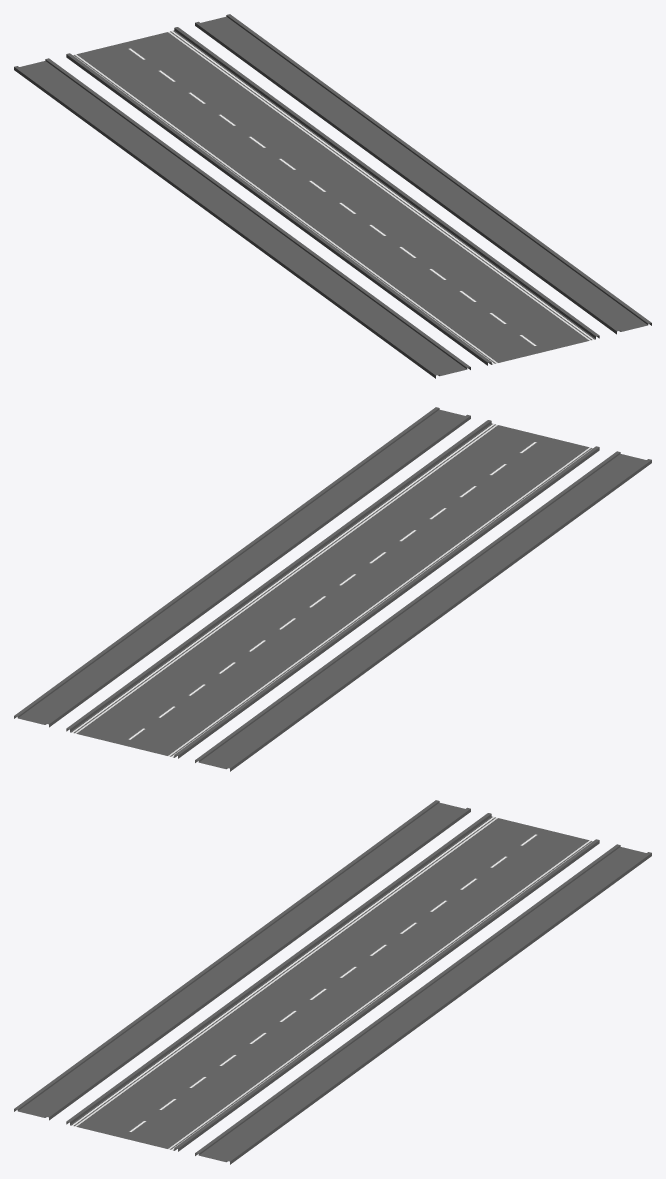
Rendered from Street1Lane70m.FBX.
3 renders of one model, top to bottom at view 1: azimuth 30°, elevation 25°; view 2: azimuth 150°, elevation 25°; view 3: azimuth 330°, elevation 25°, orthographic.
Parts seen in each view (by area): view 1: Street1Lane70m; view 2: Street1Lane70m; view 3: Street1Lane70m.
Part boxes in pixels (<box>): Street1Lane70m: <box>14,14,651,378</box>; Street1Lane70m: <box>14,407,651,771</box>; Street1Lane70m: <box>14,800,651,1164</box>.
Bounding box in the file's own units: 20.7 × 0.3 × 70.
